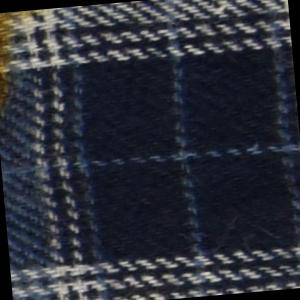Oil Stain: (1, 9, 58, 126)
